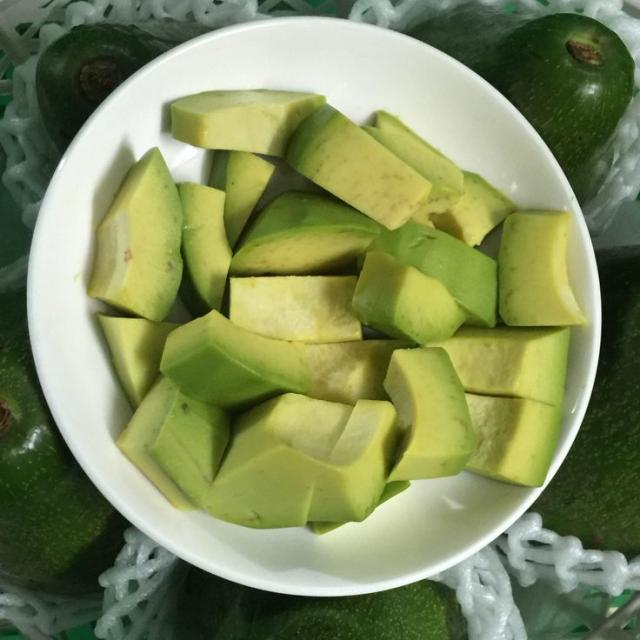avocado: (408, 3, 634, 201), (0, 291, 128, 593), (531, 247, 639, 559), (206, 394, 398, 527), (35, 18, 209, 153), (177, 568, 467, 639), (286, 105, 431, 228), (87, 148, 182, 320), (160, 310, 310, 408), (369, 220, 497, 326), (230, 191, 379, 275), (384, 347, 477, 480), (364, 111, 464, 219), (171, 89, 325, 156), (117, 376, 194, 510), (353, 252, 465, 344), (438, 327, 570, 405), (498, 211, 586, 326), (149, 393, 229, 506), (229, 276, 362, 343), (466, 394, 562, 486), (97, 314, 179, 408), (306, 340, 412, 405), (179, 182, 231, 314), (209, 150, 274, 246), (432, 172, 516, 246), (377, 481, 410, 507)
